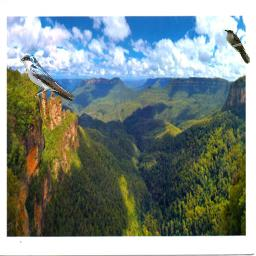Cuckoo: (224, 29, 250, 64)
Swallow: (20, 55, 76, 101)
